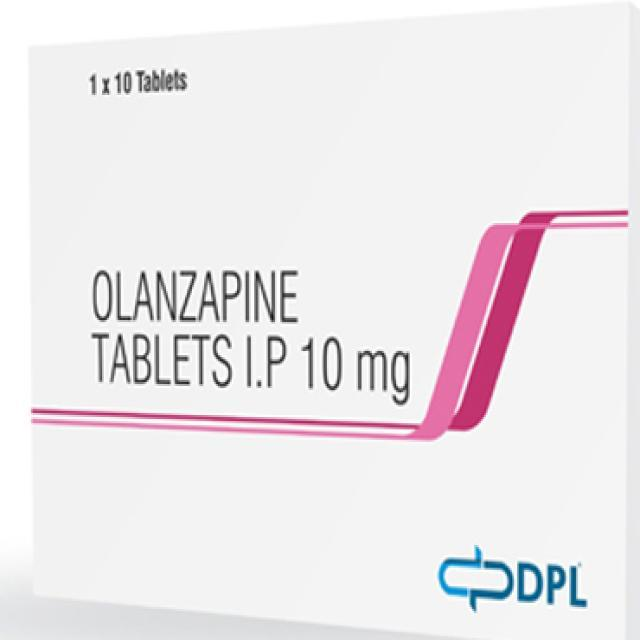drug-name: (86, 258, 304, 327)
